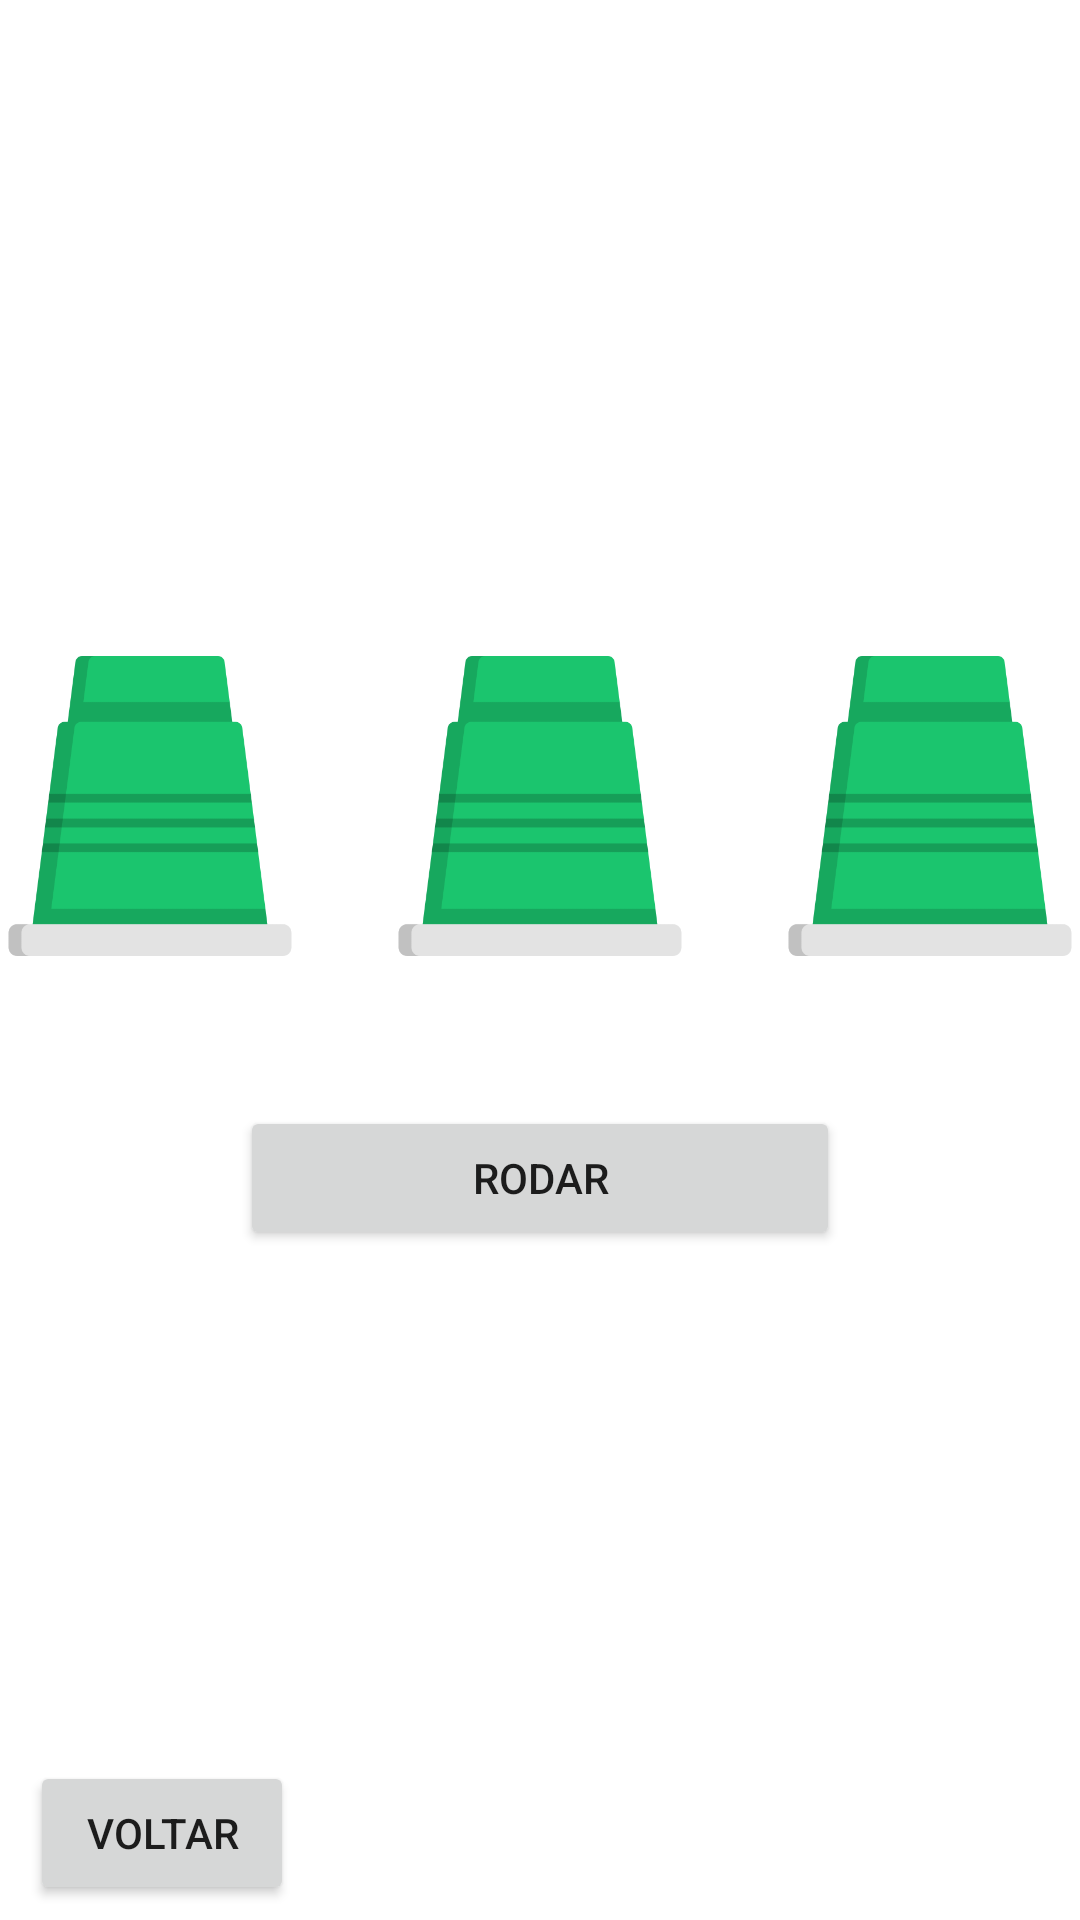

Locate icon controls on the screen. Image size 1080px x 1920px, boxes as (x1, y1, x2, y2).
copoplasticovirado: (8, 656, 291, 956), (398, 656, 681, 956), (788, 656, 1071, 956)
